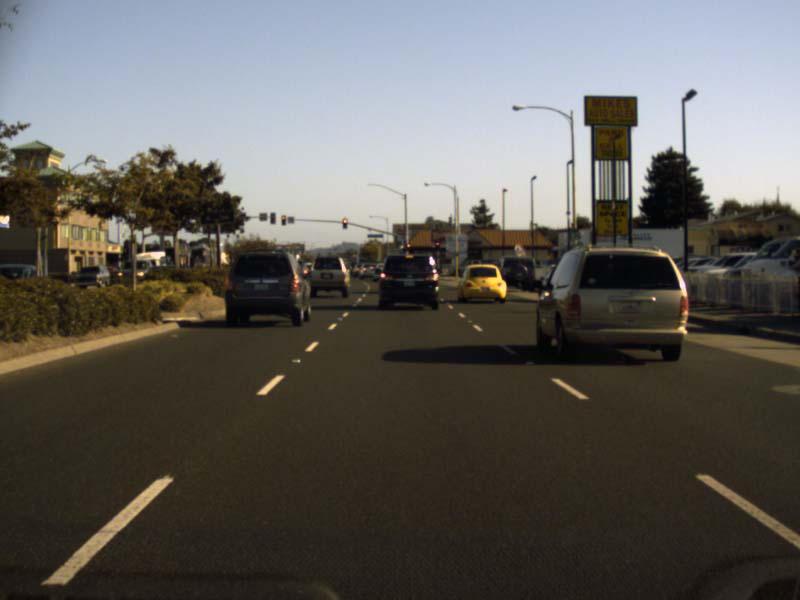Red: (342, 218, 347, 228), (280, 215, 285, 225), (405, 243, 411, 250), (435, 241, 439, 250)
